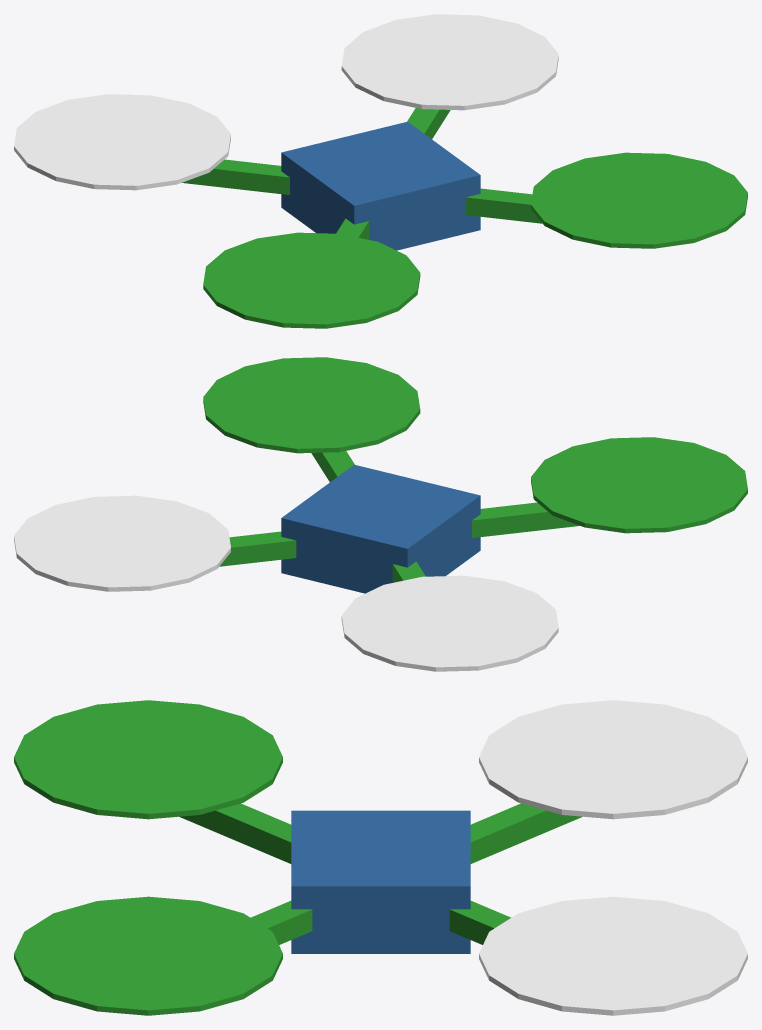
Rendered from quad_1.glb.
3 views of the same model, one above another, from view 1: azimuth 30°, elevation 25°; view 2: azimuth 150°, elevation 25°; view 3: azimuth 270°, elevation 25° (orthographic). The views are drawn at different scales.
Size of the model in its own units: 2.46 by 0.25 by 2.46.
